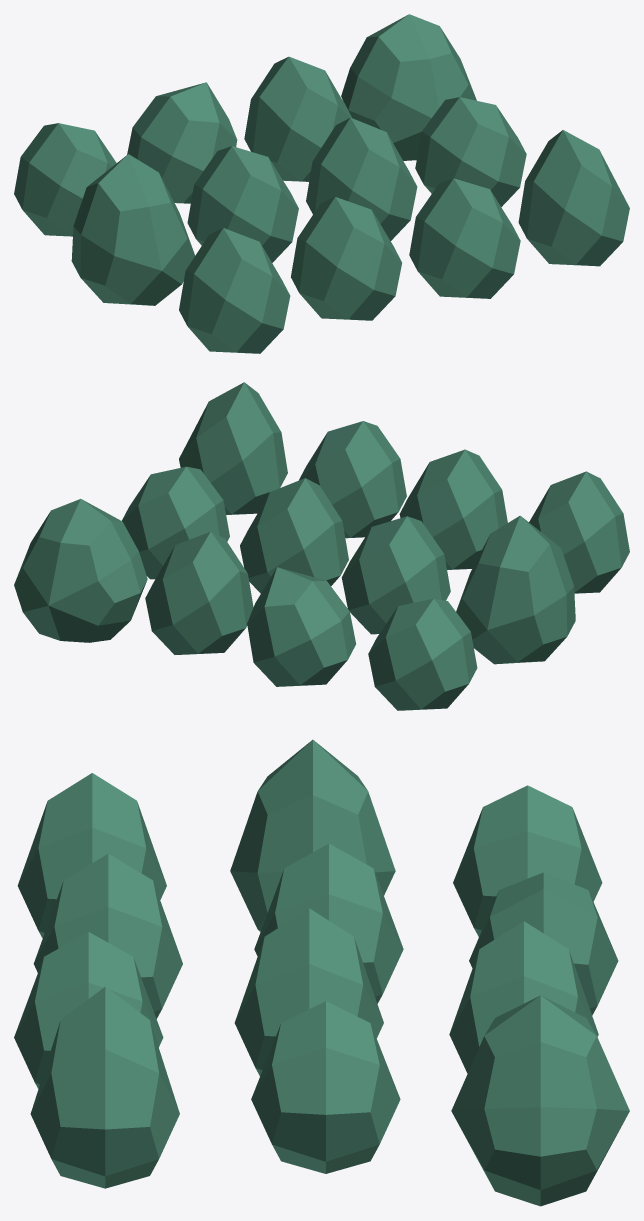
Rendered from Straw-3.fbx.
3 views of the same model, one above another, from view 1: azimuth 30°, elevation 25°; view 2: azimuth 150°, elevation 25°; view 3: azimuth 270°, elevation 25° (orthographic). The views are drawn at different scales.
Visible parts, largest first — view 1: Straw-3; view 2: Straw-3; view 3: Straw-3.
Boxes of the visible parts, box(x1,y1,x2,y2) form: Straw-3: box(14, 14, 629, 353); Straw-3: box(14, 382, 629, 710); Straw-3: box(14, 739, 629, 1206).
Bounding box in the file's own units: 76.67 × 24.05 × 63.57.
